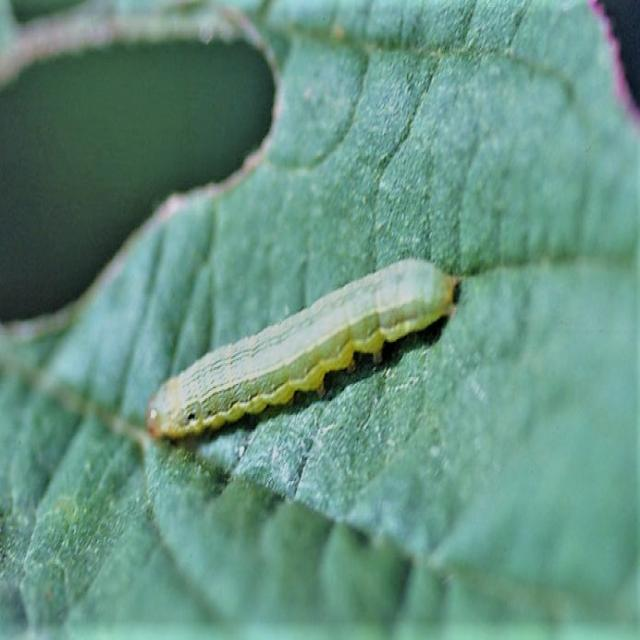Army worm: (3, 3, 635, 634), (143, 253, 465, 447)
